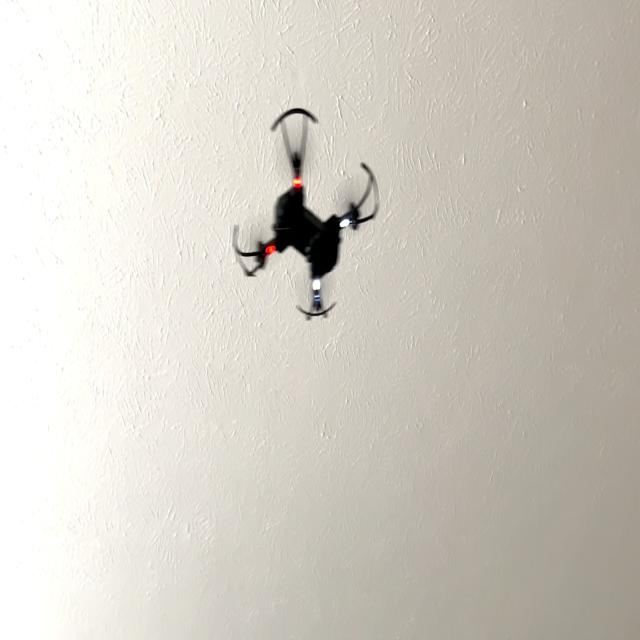drone: (226, 91, 387, 351)
